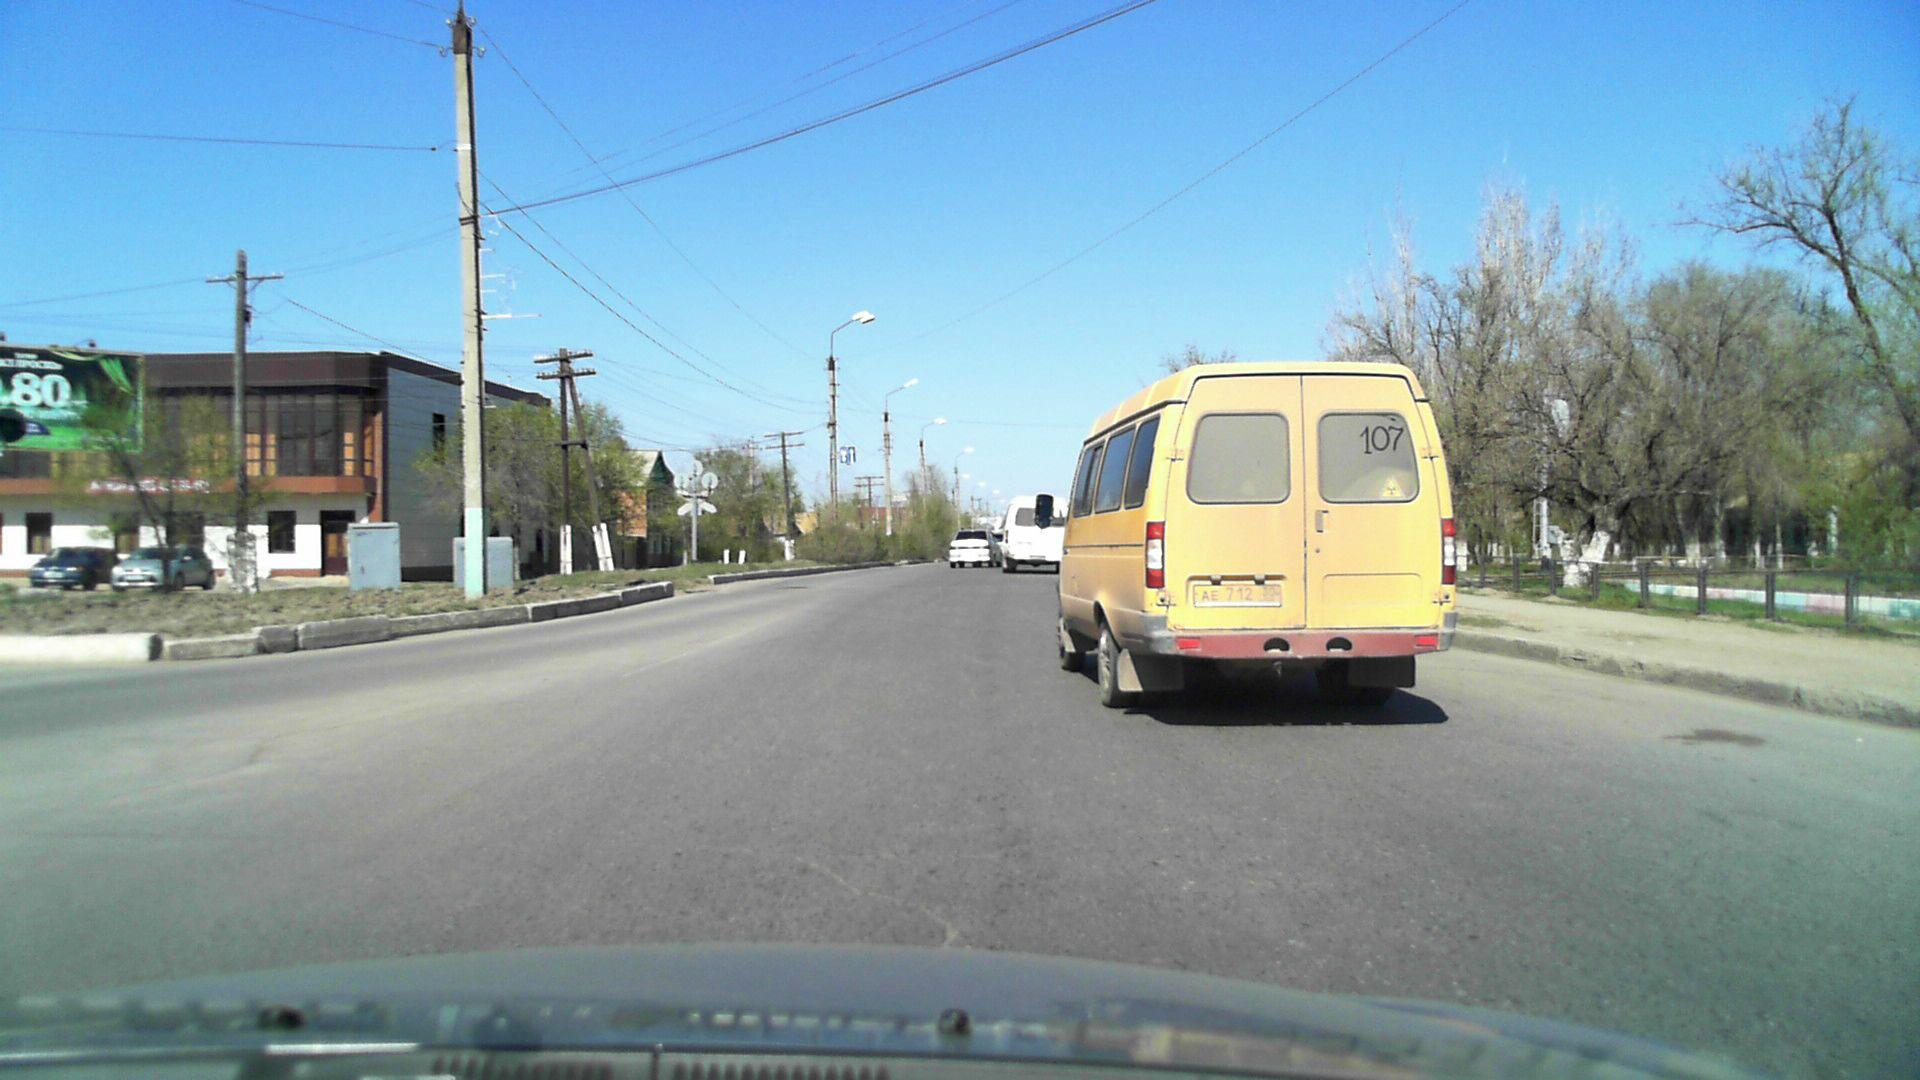5_11_1: (837, 444, 858, 467)
